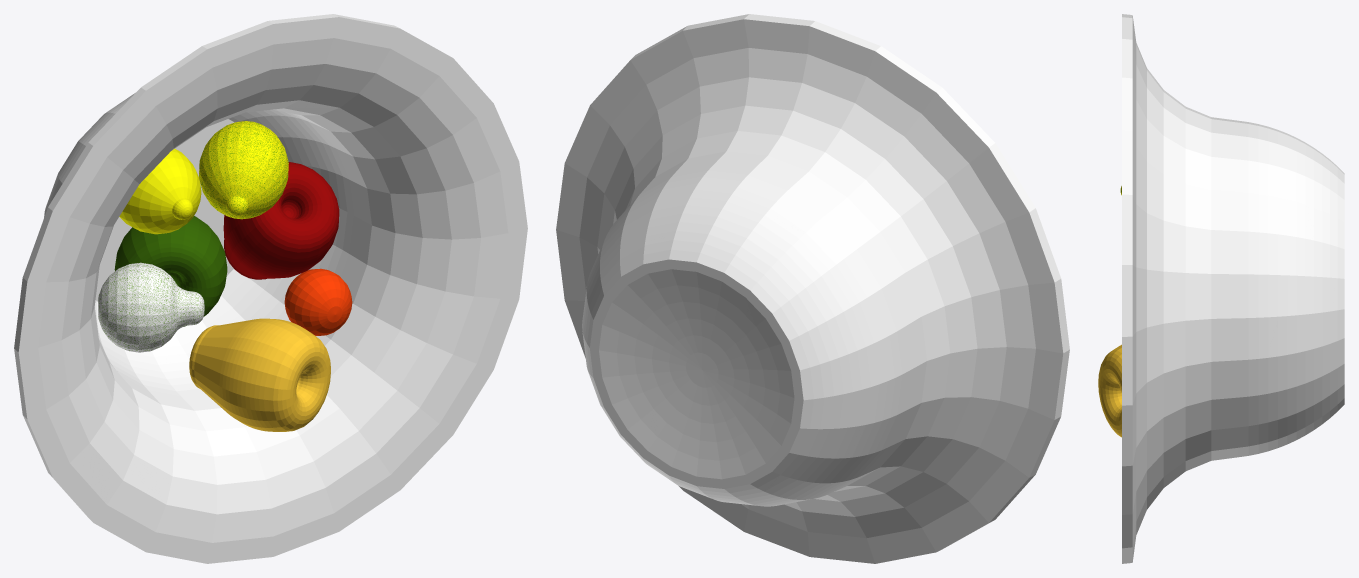
3 views of the same model, side by side, from view 1: azimuth 30°, elevation 25°; view 2: azimuth 150°, elevation 25°; view 3: azimuth 270°, elevation 25° (orthographic). The views are drawn at different scales.
Visible parts, largest first — view 1: bowl of fruit; view 2: bowl of fruit; view 3: bowl of fruit.
Part boxes in pixels (box(x1,y1,x2,y2)): bowl of fruit: box(14, 14, 527, 563); bowl of fruit: box(556, 14, 1069, 563); bowl of fruit: box(1098, 14, 1344, 563).
Bounding box in the file's own units: 20.5 × 20.5 × 9.15.
